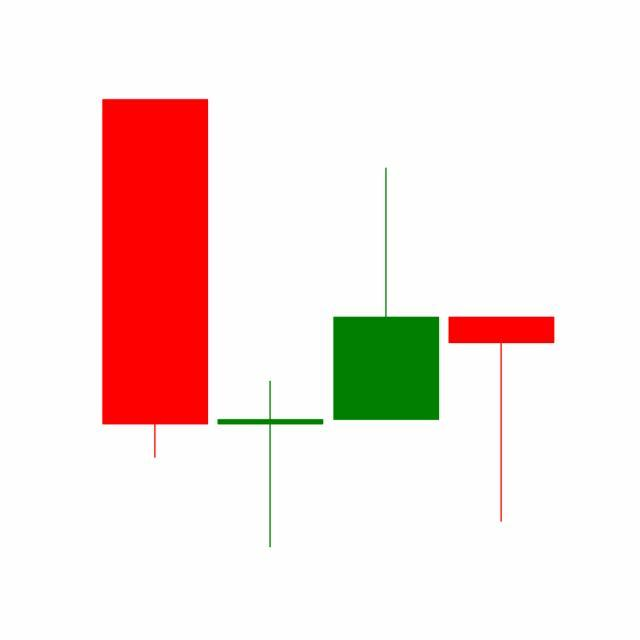Hammer: (444, 315, 560, 525)
